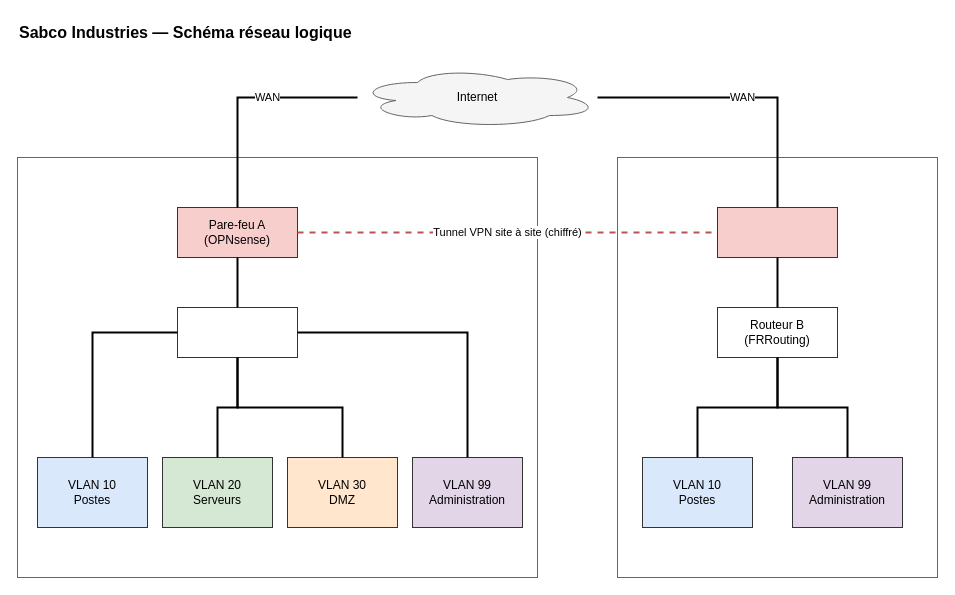
The diagram is 955 pixels wide and 595 high, and some of its shapes have lost their labels. Here are the shapes that lost their labels. From the top down, the box of each, then its label:
(716, 206, 838, 258): Pare-feu B (OPNsense)
(176, 306, 298, 358): Routeur A (FRRouting)
(16, 156, 538, 578): Site A — Siège (Paris, ~100 personnes)
(616, 156, 938, 578): Site B — Agence (Lyon, ~50 personnes)
